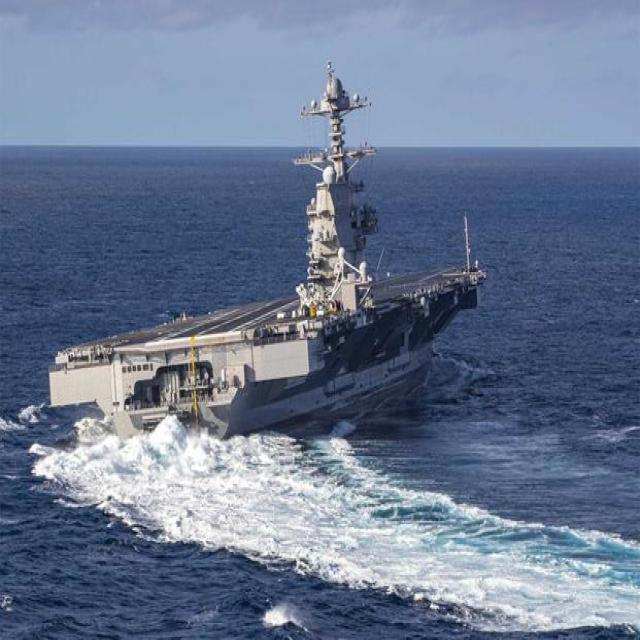navalvessels: (49, 48, 488, 467)
